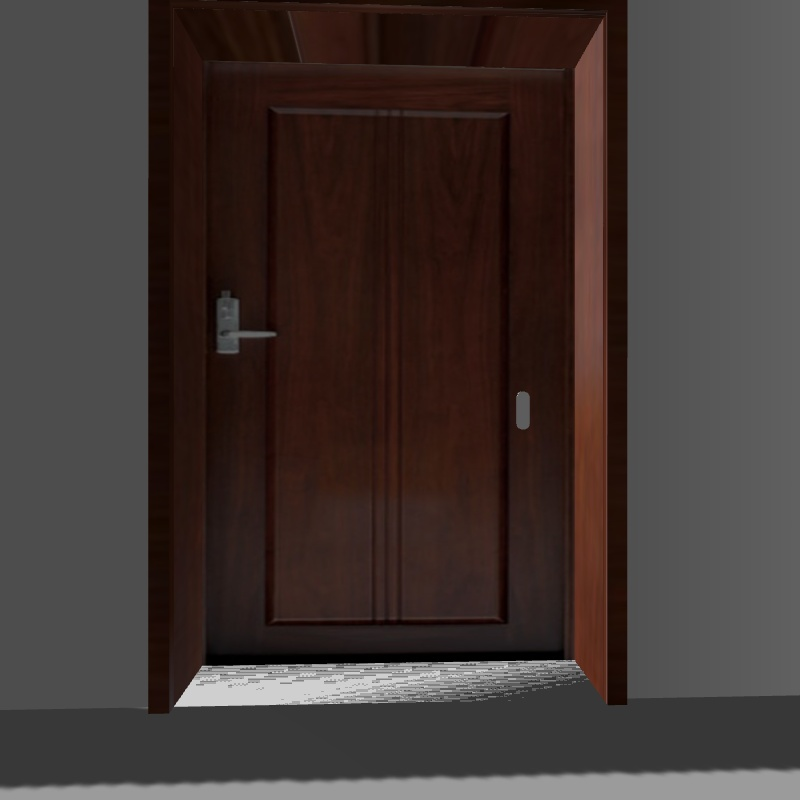handle: (204, 291, 280, 359)
